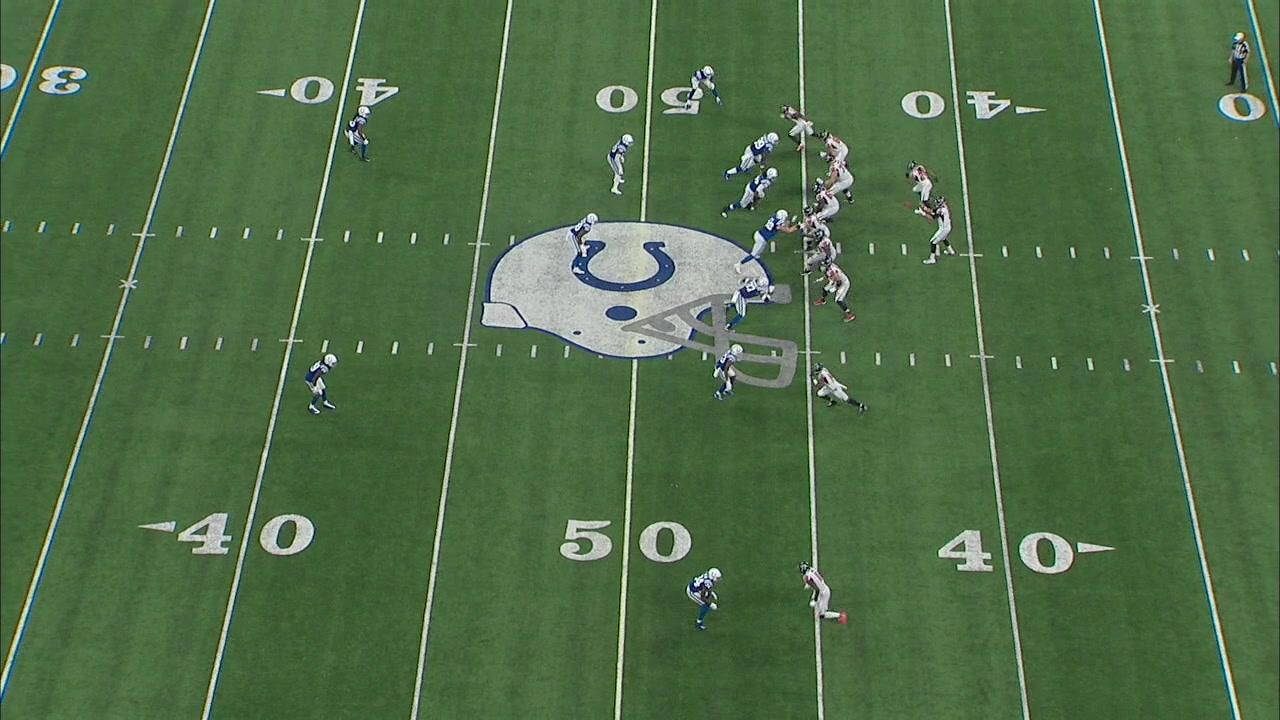defense: (732, 209, 799, 274), (721, 274, 777, 333), (719, 167, 780, 220), (722, 130, 780, 181), (684, 564, 725, 633), (299, 352, 340, 419), (341, 102, 375, 167), (566, 212, 600, 276), (709, 344, 744, 404), (683, 64, 724, 113), (606, 132, 636, 197)
oline: (813, 256, 857, 325), (815, 154, 856, 206), (799, 229, 837, 284), (799, 205, 831, 253), (810, 180, 840, 224)
qb: (914, 194, 958, 265)
ref: (1223, 30, 1255, 95)
skill: (796, 559, 853, 631), (807, 362, 869, 415), (778, 102, 821, 155), (903, 157, 939, 210), (817, 128, 849, 170)
